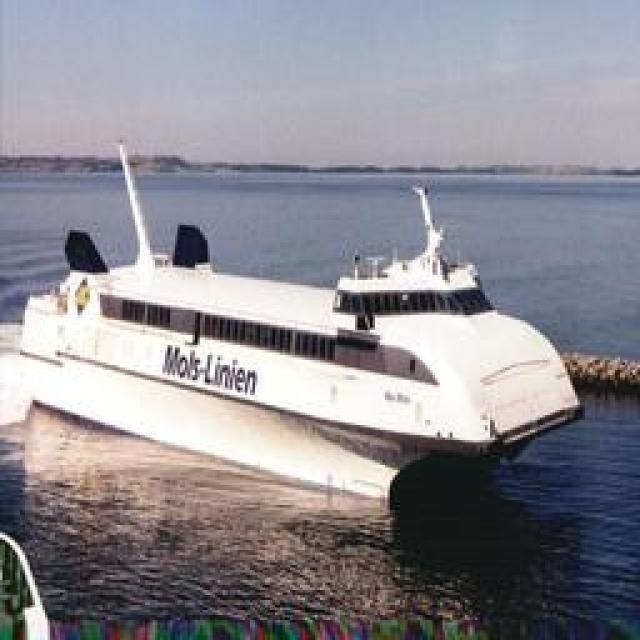ship2: (3, 142, 583, 501)
